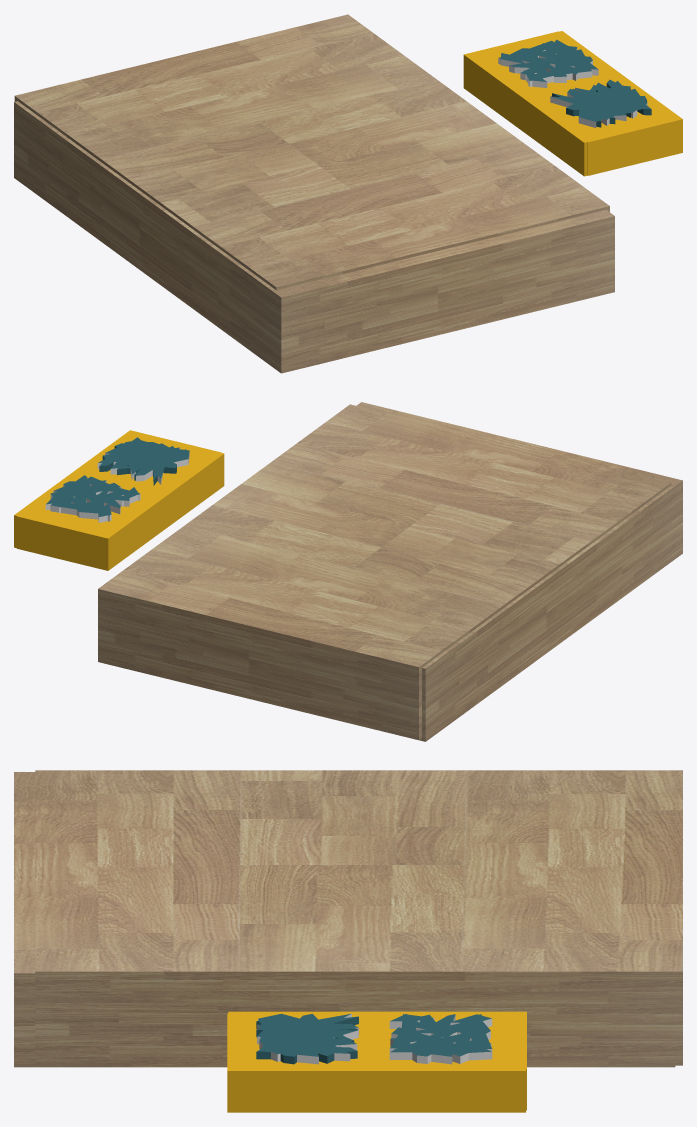
The model's file is 肉和菜的案板.fbx.
The picture shows the model from 3 angles, top to bottom: view 1: azimuth 30°, elevation 25°; view 2: azimuth 150°, elevation 25°; view 3: azimuth 270°, elevation 25°; orthographic projection. The views are drawn at different scales.
Visible parts, largest first — view 1: 垫子, 垫子_2, 立方体_12, 立方体_11, 封顶_1, 封顶_1_2, 封顶_1_4, 封顶_1_3, 蔬; view 2: 垫子, 垫子_2, 立方体_11, 立方体_12, 封顶_1_4, 封顶_1, 封顶_1_2, 封顶_1_3; view 3: 垫子, 立方体_12, 垫子_2, 封顶_1, 封顶_1_4, 封顶_1_2, 封顶_1_3, 蔬, 立方体_11, 菜, 类.
Part boxes in pixels (bbox=[...]): 垫子: bbox=[14, 14, 609, 290]; 垫子_2: bbox=[14, 101, 614, 373]; 立方体_12: bbox=[468, 31, 682, 175]; 立方体_11: bbox=[463, 31, 587, 176]; 封顶_1: bbox=[500, 39, 598, 81]; 封顶_1_2: bbox=[552, 79, 651, 121]; 封顶_1_4: bbox=[551, 81, 647, 121]; 封顶_1_3: bbox=[499, 40, 591, 80]; 蔬: bbox=[500, 48, 598, 87]; 垫子: bbox=[98, 404, 671, 740]; 垫子_2: bbox=[356, 402, 682, 741]; 立方体_11: bbox=[17, 453, 224, 570]; 立方体_12: bbox=[14, 430, 221, 548]; 封顶_1_4: bbox=[98, 440, 189, 478]; 封顶_1: bbox=[46, 475, 139, 516]; 封顶_1_2: bbox=[99, 437, 187, 479]; 封顶_1_3: bbox=[50, 476, 139, 515]; 垫子: bbox=[35, 770, 682, 1065]; 立方体_12: bbox=[227, 1013, 525, 1112]; 垫子_2: bbox=[14, 772, 675, 1067]; 封顶_1: bbox=[390, 1014, 491, 1056]; 封顶_1_4: bbox=[257, 1013, 358, 1056]; 封顶_1_2: bbox=[257, 1013, 357, 1056]; 封顶_1_3: bbox=[390, 1014, 491, 1056]; 蔬: bbox=[389, 1014, 492, 1063]; 立方体_11: bbox=[228, 1011, 526, 1110]; 菜: bbox=[256, 1016, 358, 1064]; 类: bbox=[257, 1014, 358, 1064].
Bounding box in the file's own units: 762 × 118 × 732.
3 materials, 1 textured.
